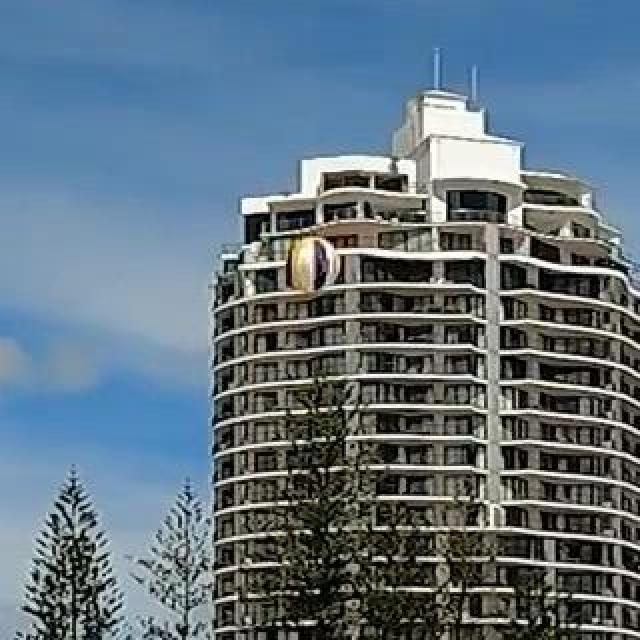volleyball: (281, 237, 339, 293)
